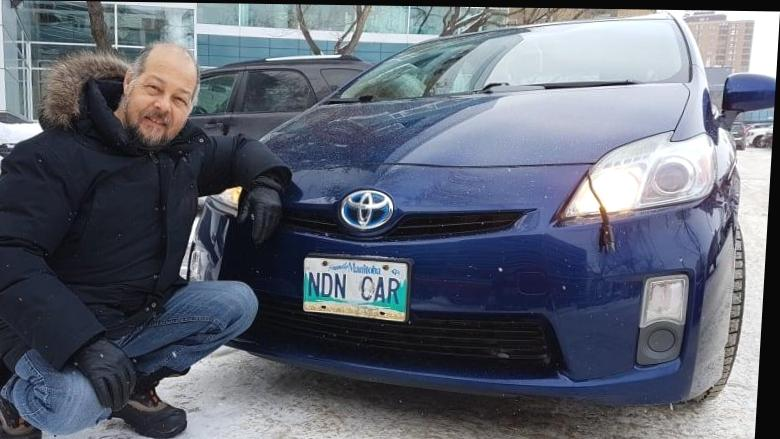License_Plate: (297, 252, 410, 324)
